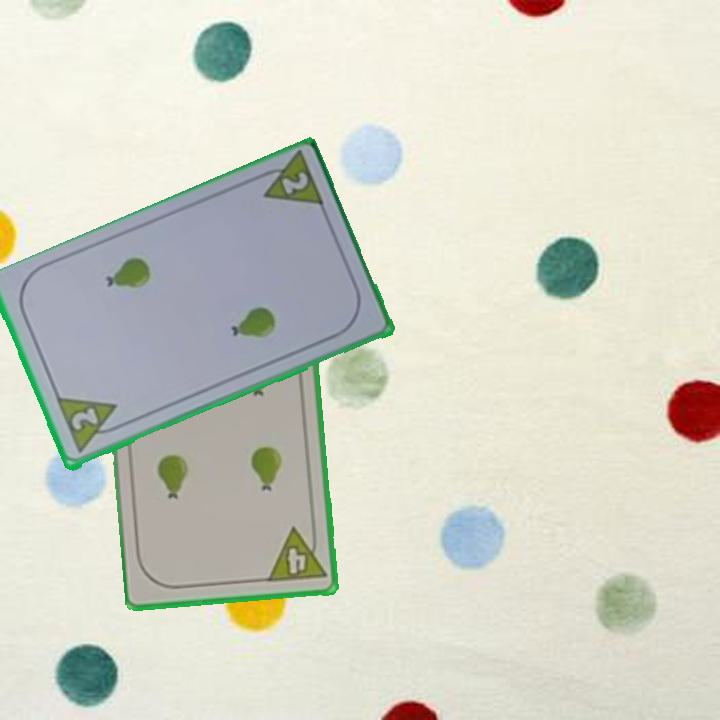2p: (250, 150, 328, 212), (67, 404, 101, 435)
4p: (264, 523, 329, 585)
